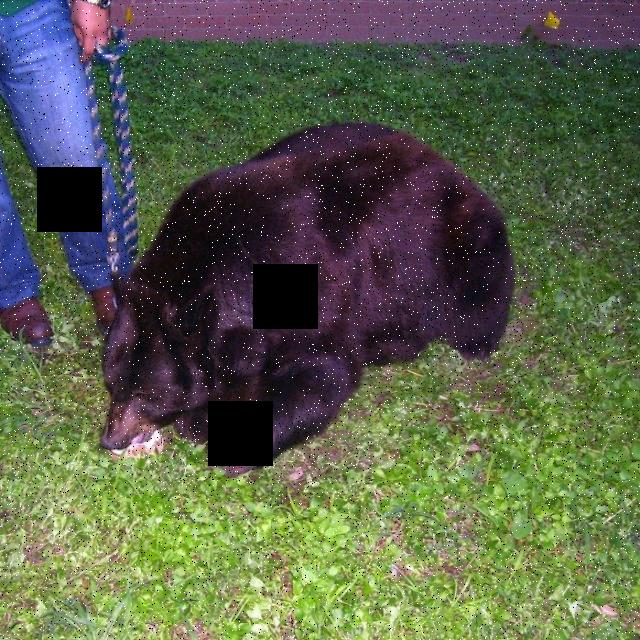Bear: (103, 107, 521, 484)
